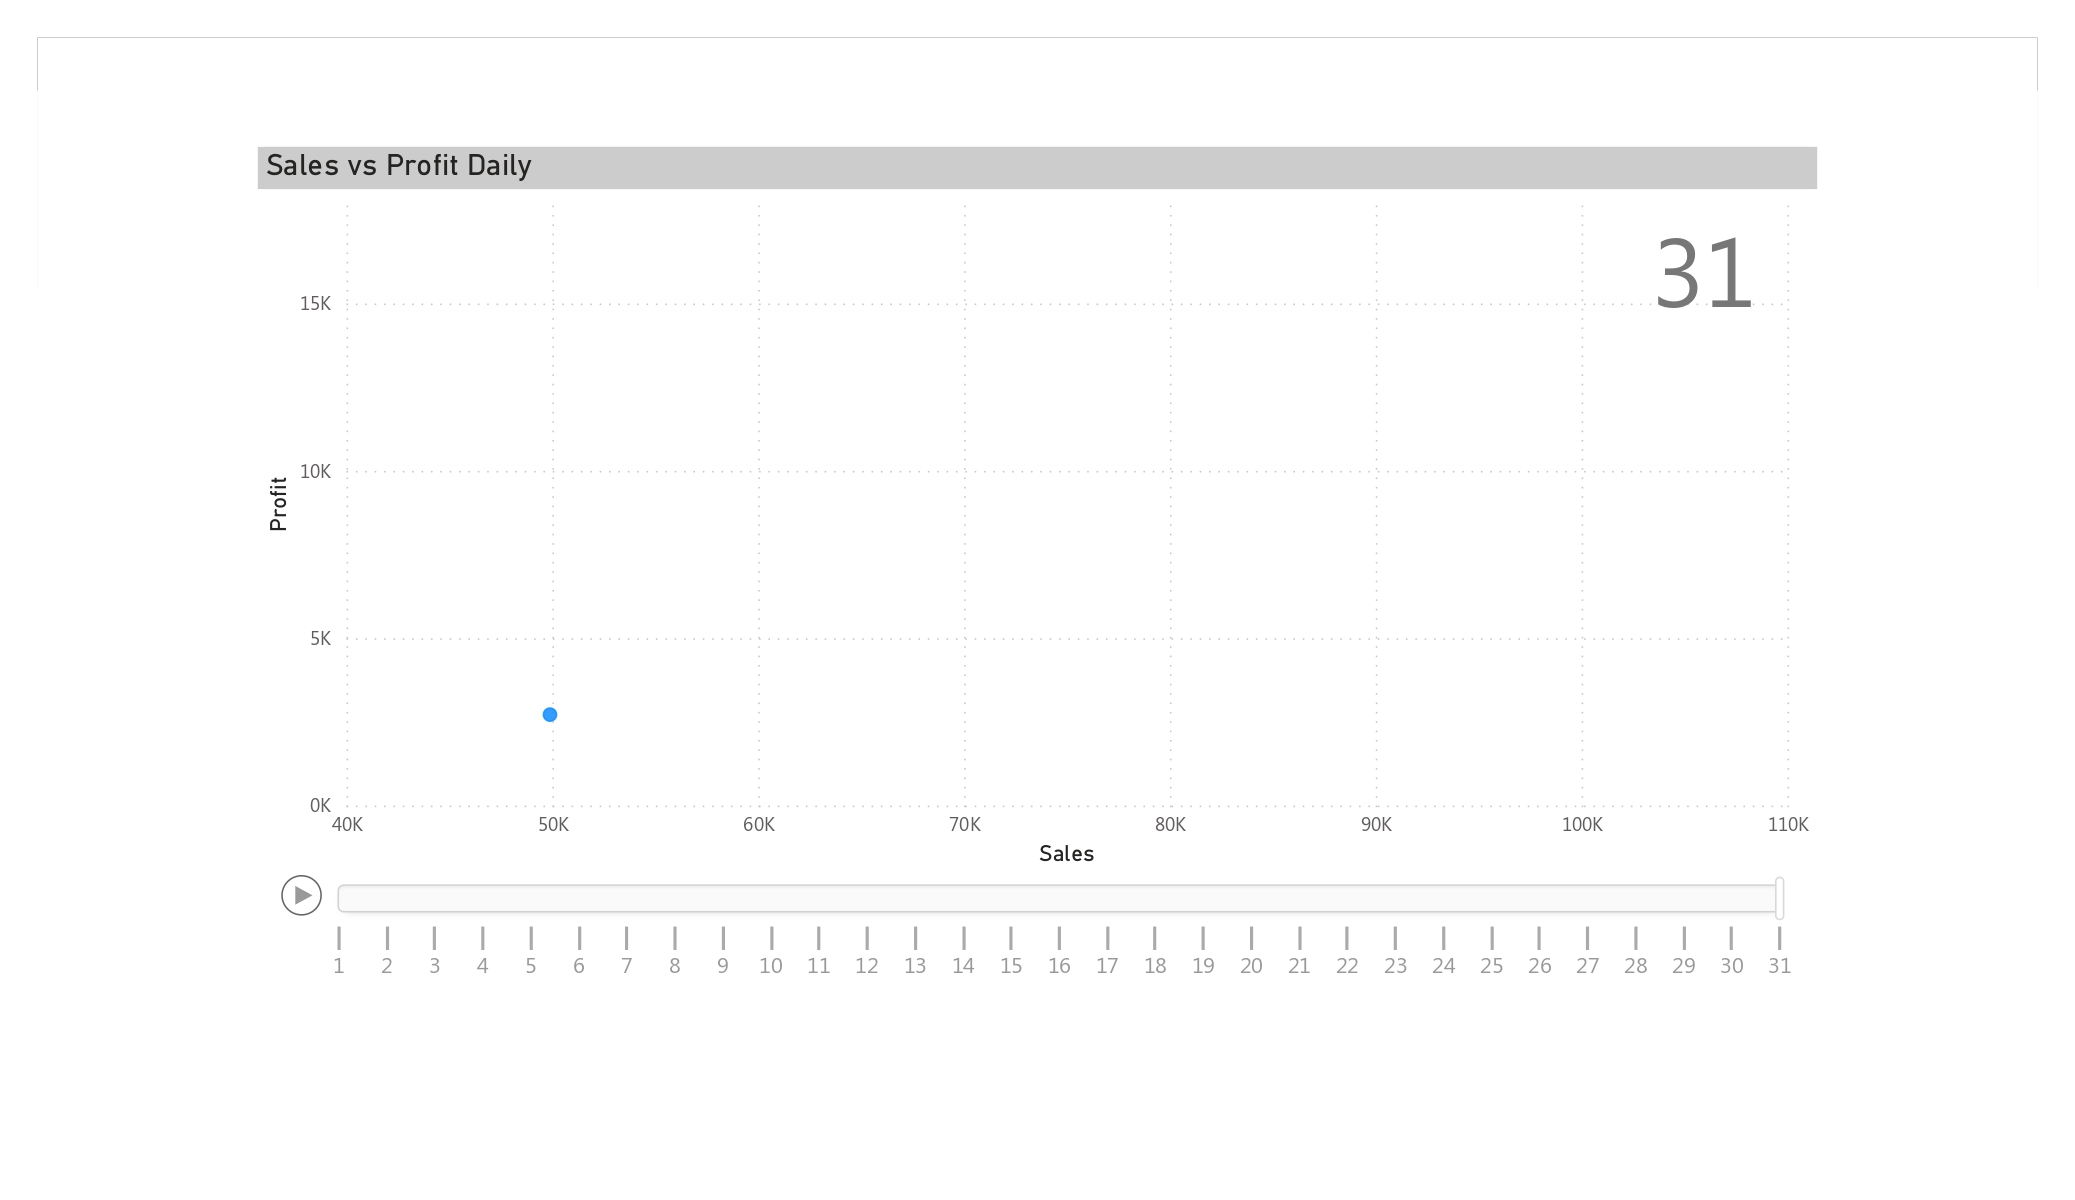

The page's visual inventory and layout, read from the dashboard file:
{"tool":"powerbi","page":{"name":"Page3","canvas":[1280,720],"ordinal":2},"visuals":[{"type":"scatterChart","title":"Sales vs Profit Daily","fields":{"X":["Sum(Orders.Sales)"],"Y":["Sum(Orders.Profit)"],"Play":["Orders.Ship Date.Variation.Date Hierarchy.Day"]},"box":[140.8,69.6,998.3,545.3],"z":0}]}

Visuals, with their boxes on the page's 1280x720 design canvas (x1, y1, x2, y2). These are canvas units, not pixel positions in the 2075x1200 screenshot, which may show the page scaled, cropped or inside an application window:
"Sales vs Profit Daily" scatterChart: bbox=(141, 70, 1139, 615)
